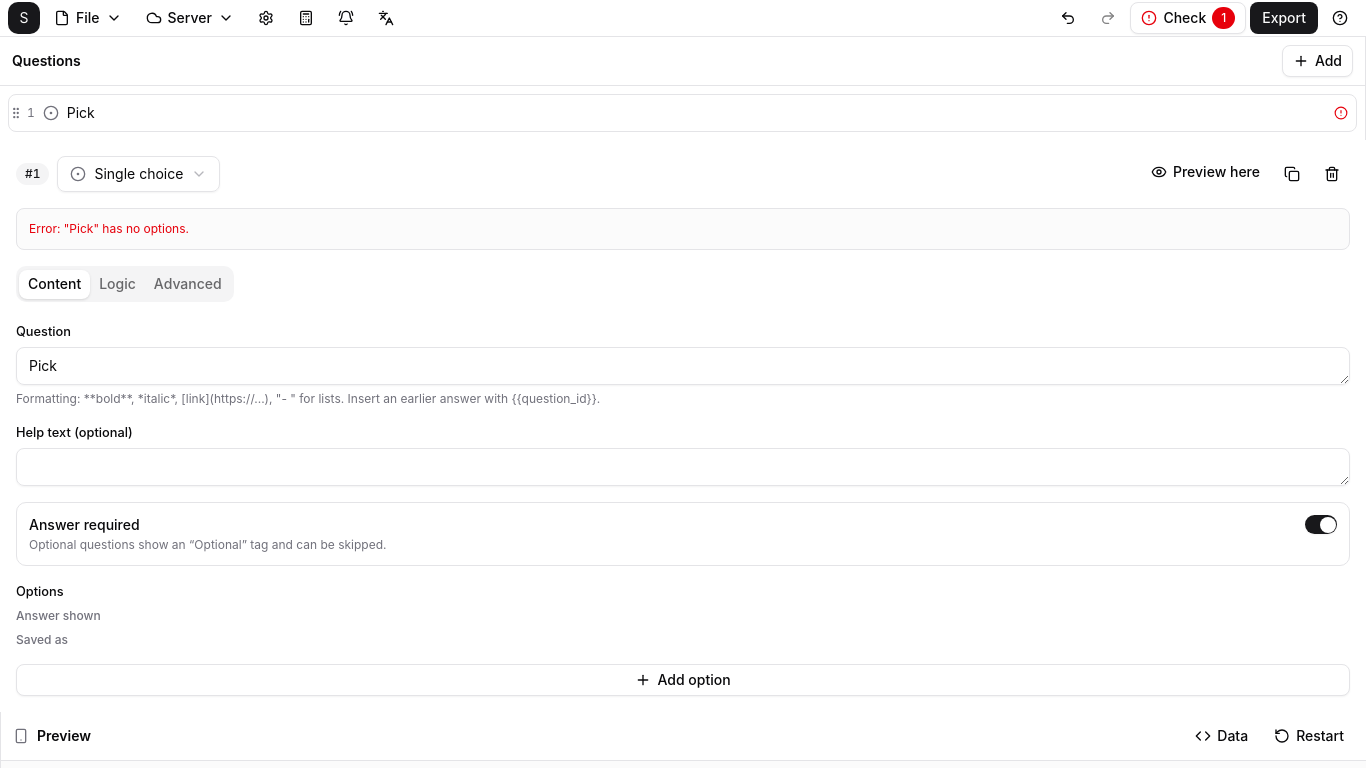
Test: builder: authoring › validation errors block export, and Check lists them
The image size is (1366, 768).
Click the button with test id "check-button" at [1188, 18], box [1130, 2, 1246, 34]
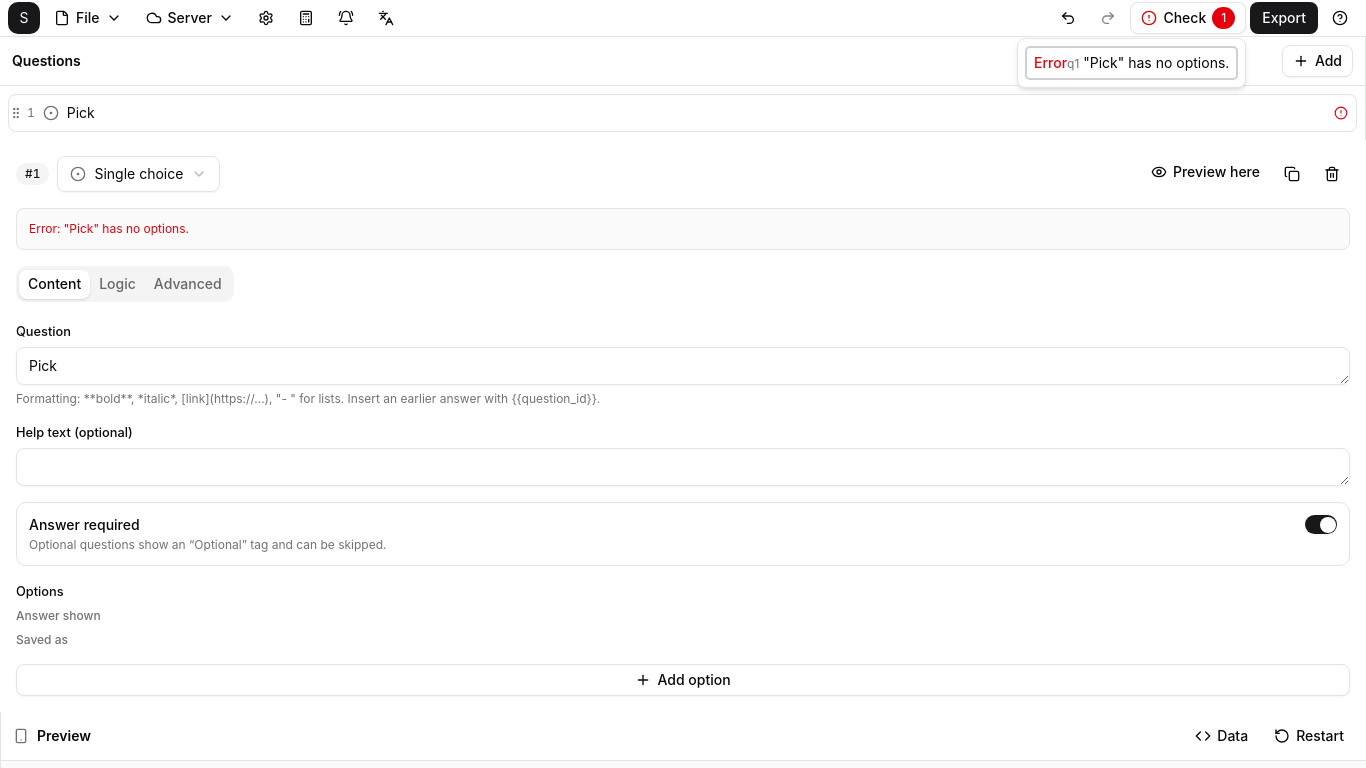
Check: the button "has no options" is shown, box [1026, 47, 1237, 79]
Press Escape
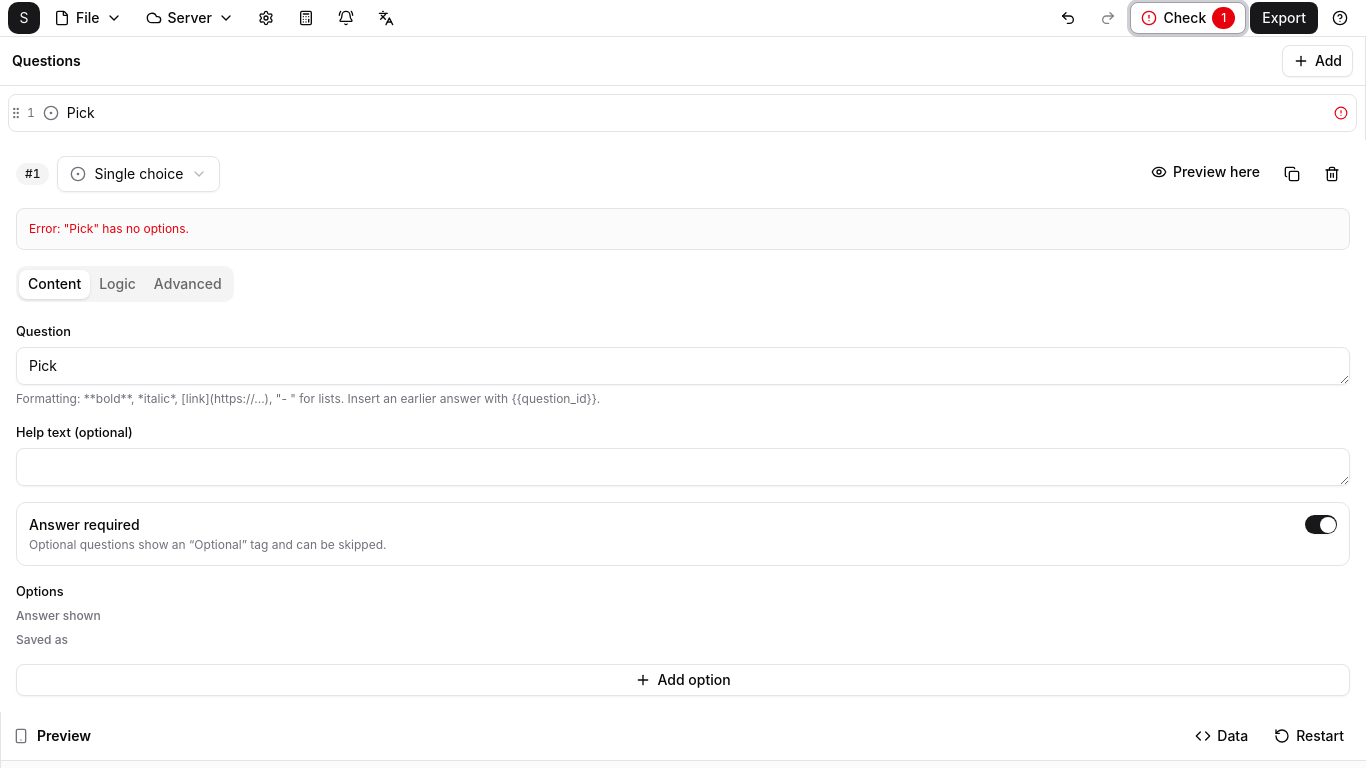
Click the button "Export" at [1284, 18], box [1250, 2, 1318, 34]
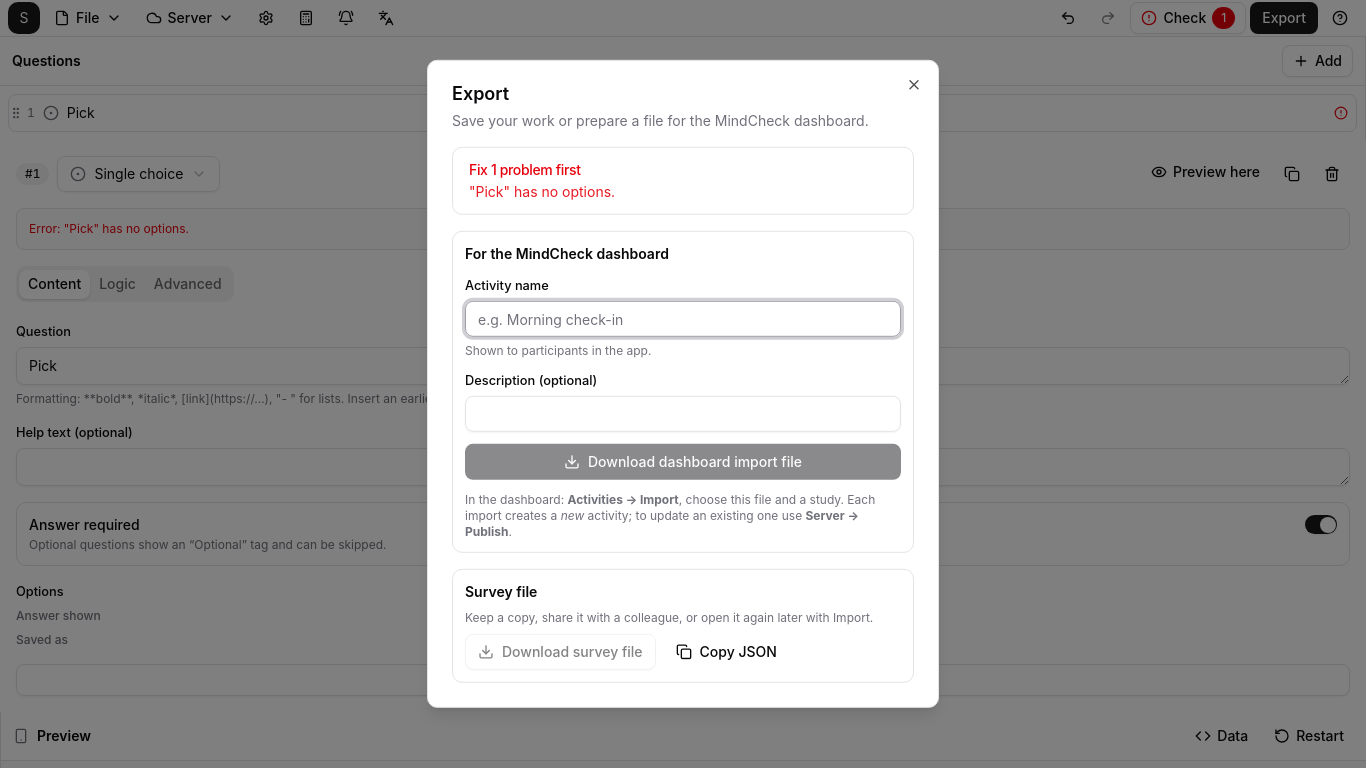
Check: the text "Fix 1 problem first" is shown, box [469, 161, 581, 178]
Check: the button "Download dashboard import file" is disabled, box [465, 444, 901, 480]
